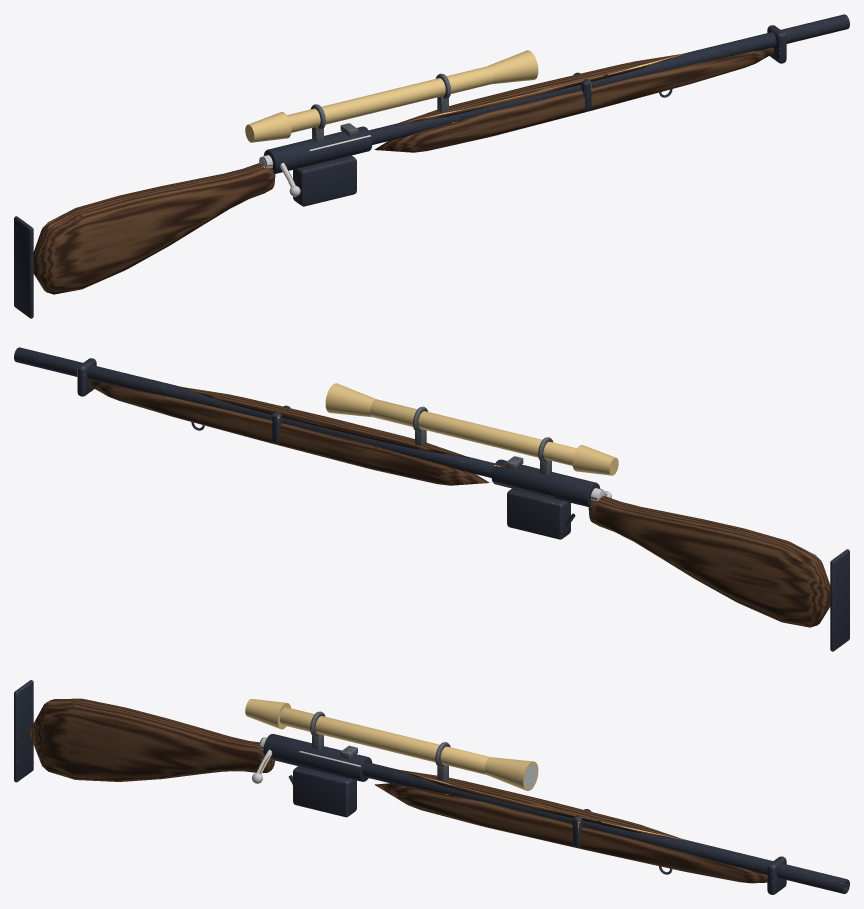
The model's file is rifle.glb.
3 views of the same model, one above another, from view 1: azimuth 30°, elevation 25°; view 2: azimuth 150°, elevation 25°; view 3: azimuth 330°, elevation 25° (orthographic).
Visible parts, largest first — view 1: stock, fore_stock, barrel, scope_tube, hand_guard, receiver, magazine, stock_plate, scope_bell, scope_eye; view 2: stock, fore_stock, barrel, scope_tube, hand_guard, receiver, magazine, stock_plate, scope_bell, scope_eye; view 3: stock, fore_stock, barrel, scope_tube, hand_guard, receiver, magazine, stock_plate, scope_bell, scope_eye, band0.66.
Part boxes in pixels (left/top/right/bottom): stock: left=33, top=163, right=275, bottom=294; fore_stock: left=374, top=47, right=774, bottom=152; barrel: left=369, top=14, right=849, bottom=144; scope_tube: left=287, top=66, right=493, bottom=132; hand_guard: left=393, top=53, right=687, bottom=124; receiver: left=263, top=126, right=372, bottom=174; magazine: left=293, top=155, right=356, bottom=206; stock_plate: left=14, top=216, right=33, bottom=318; scope_bell: left=487, top=50, right=538, bottom=84; scope_eye: left=245, top=112, right=291, bottom=142; stock: left=588, top=496, right=830, bottom=627; fore_stock: left=89, top=380, right=489, bottom=485; barrel: left=14, top=347, right=494, bottom=477; scope_tube: left=370, top=399, right=576, bottom=465; hand_guard: left=176, top=386, right=470, bottom=457; receiver: left=491, top=459, right=600, bottom=507; magazine: left=507, top=488, right=570, bottom=539; stock_plate: left=830, top=549, right=849, bottom=651; scope_bell: left=325, top=383, right=376, bottom=417; scope_eye: left=572, top=445, right=618, bottom=475; stock: left=29, top=698, right=274, bottom=781; fore_stock: left=374, top=783, right=783, bottom=883; barrel: left=363, top=762, right=849, bottom=893; scope_tube: left=280, top=707, right=490, bottom=774; hand_guard: left=394, top=769, right=687, bottom=840; receiver: left=263, top=734, right=372, bottom=781; magazine: left=293, top=766, right=356, bottom=817; stock_plate: left=14, top=680, right=33, bottom=782; scope_bell: left=484, top=757, right=538, bottom=790; scope_eye: left=245, top=698, right=290, bottom=729; band0.66: left=767, top=856, right=786, bottom=894.
Size of the model in its own units: 1.19 by 0.1896 by 0.0755.
1 material, 1 textured.
